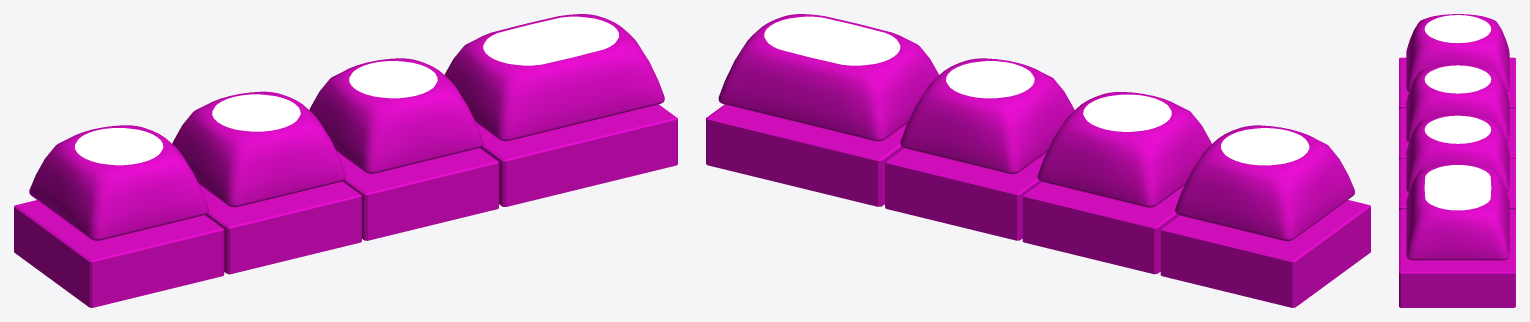
File: Thereisnoesc.glb
3 views of the same model, side by side, from view 1: azimuth 30°, elevation 25°; view 2: azimuth 150°, elevation 25°; view 3: azimuth 270°, elevation 25° (orthographic). The views are drawn at different scales.
Parts seen in each view (by area): view 1: Key4, Key1, Key2, Key3, Base1, Base4, Base2, Base3; view 2: Key4, Key1, Key2, Key3, Base1, Base4, Base2, Base3; view 3: Key4, Base4, Key1, Key2, Key3, Base1, Base3, Base2.
Part boxes in pixels (box(x1,y1,x2,y2)): Key4: box(444, 14, 664, 141); Key1: box(29, 125, 208, 240); Key2: box(172, 91, 346, 207); Key3: box(309, 58, 483, 173); Base1: box(14, 200, 224, 307); Base4: box(476, 104, 677, 206); Base2: box(199, 181, 361, 274); Base3: box(337, 148, 498, 240); Key4: box(718, 14, 938, 141); Key1: box(1175, 125, 1354, 241); Key2: box(1037, 92, 1211, 207); Key3: box(900, 58, 1074, 174); Base1: box(1160, 200, 1370, 307); Base4: box(706, 104, 907, 206); Base2: box(1022, 181, 1184, 274); Base3: box(885, 148, 1046, 240); Key4: box(1406, 164, 1509, 260); Base4: box(1399, 209, 1515, 307); Key1: box(1406, 14, 1509, 91); Key2: box(1406, 64, 1509, 142); Key3: box(1406, 114, 1509, 192); Base1: box(1399, 57, 1515, 108); Base3: box(1399, 158, 1515, 209); Base2: box(1399, 108, 1515, 158).
Bounding box in the file's own units: 2.96 × 0.5669 × 0.6776.
Materials: 6 (4 with a texture image).
